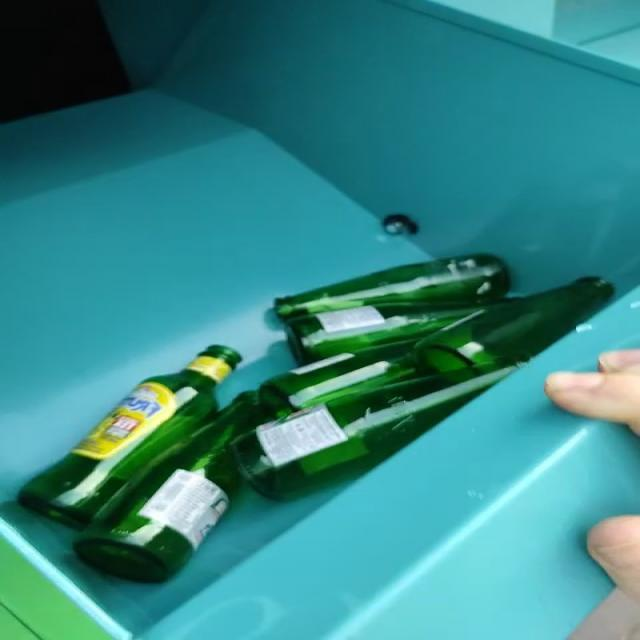Glass: (17, 254, 613, 583)
